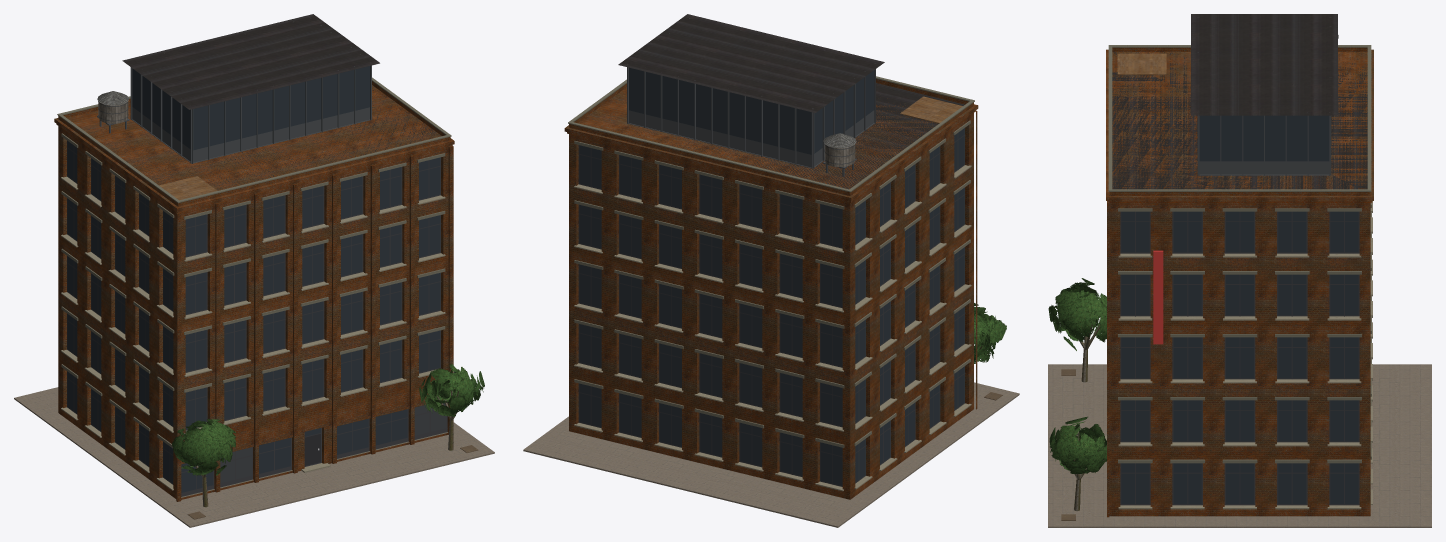
The model's file is office_loft.glb.
3 renders of one model, left to right at view 1: azimuth 30°, elevation 25°; view 2: azimuth 150°, elevation 25°; view 3: azimuth 270°, elevation 25°, orthographic. The views are drawn at different scales.
Visible parts, largest first — view 1: office_loft_body, office_loft_foliage; view 2: office_loft_body, office_loft_foliage; view 3: office_loft_body, office_loft_foliage.
Boxes of the visible parts, x1,y1,x2,y2 form: office_loft_body: (14, 14, 494, 527); office_loft_foliage: (172, 364, 484, 475); office_loft_body: (523, 14, 1019, 527); office_loft_foliage: (974, 303, 1006, 363); office_loft_body: (1048, 14, 1431, 527); office_loft_foliage: (1048, 278, 1106, 473).
Bounding box in the file's own units: 0.94 × 1.04 × 0.94.
Materials: 20 (12 with a texture image).
